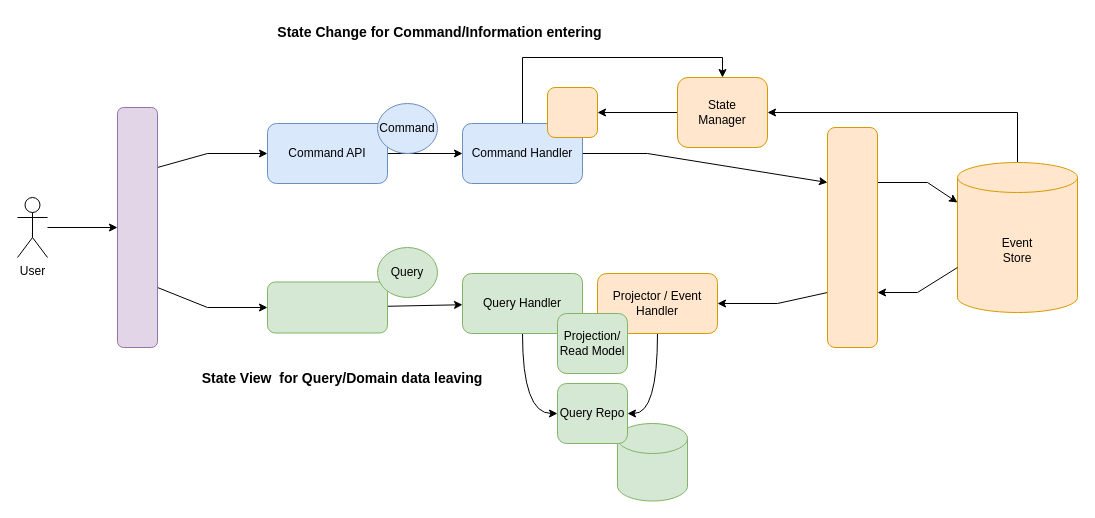
Image size: 1095x518. Some labels were removed from this diagram. The box of each missing label's shape, as (x1, y1, x2, y2) in pixels:
Event Bus: (826, 126, 878, 348)
Query API: (266, 281, 388, 333)
Query Database: (616, 422, 688, 501)
Sourced Domain State: (546, 86, 598, 138)
UI: (116, 106, 158, 348)
